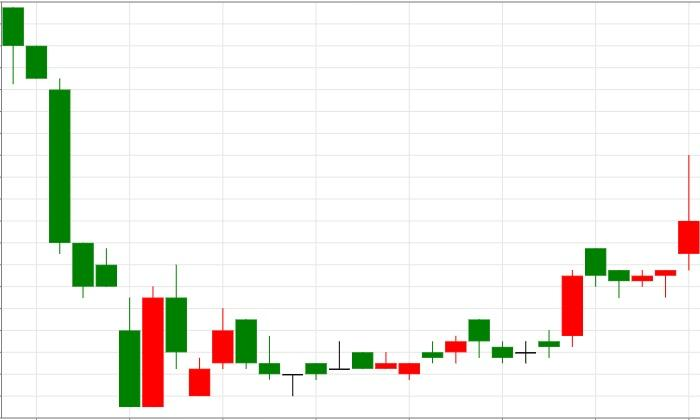bullish_engulfing_rise: (3, 7, 164, 408)
